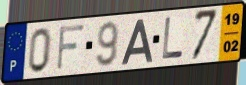0: (27, 26, 54, 75)
7: (190, 7, 220, 63)
9: (95, 20, 121, 69)
A: (120, 18, 155, 67)
F: (55, 22, 87, 73)
L: (161, 16, 185, 61)
